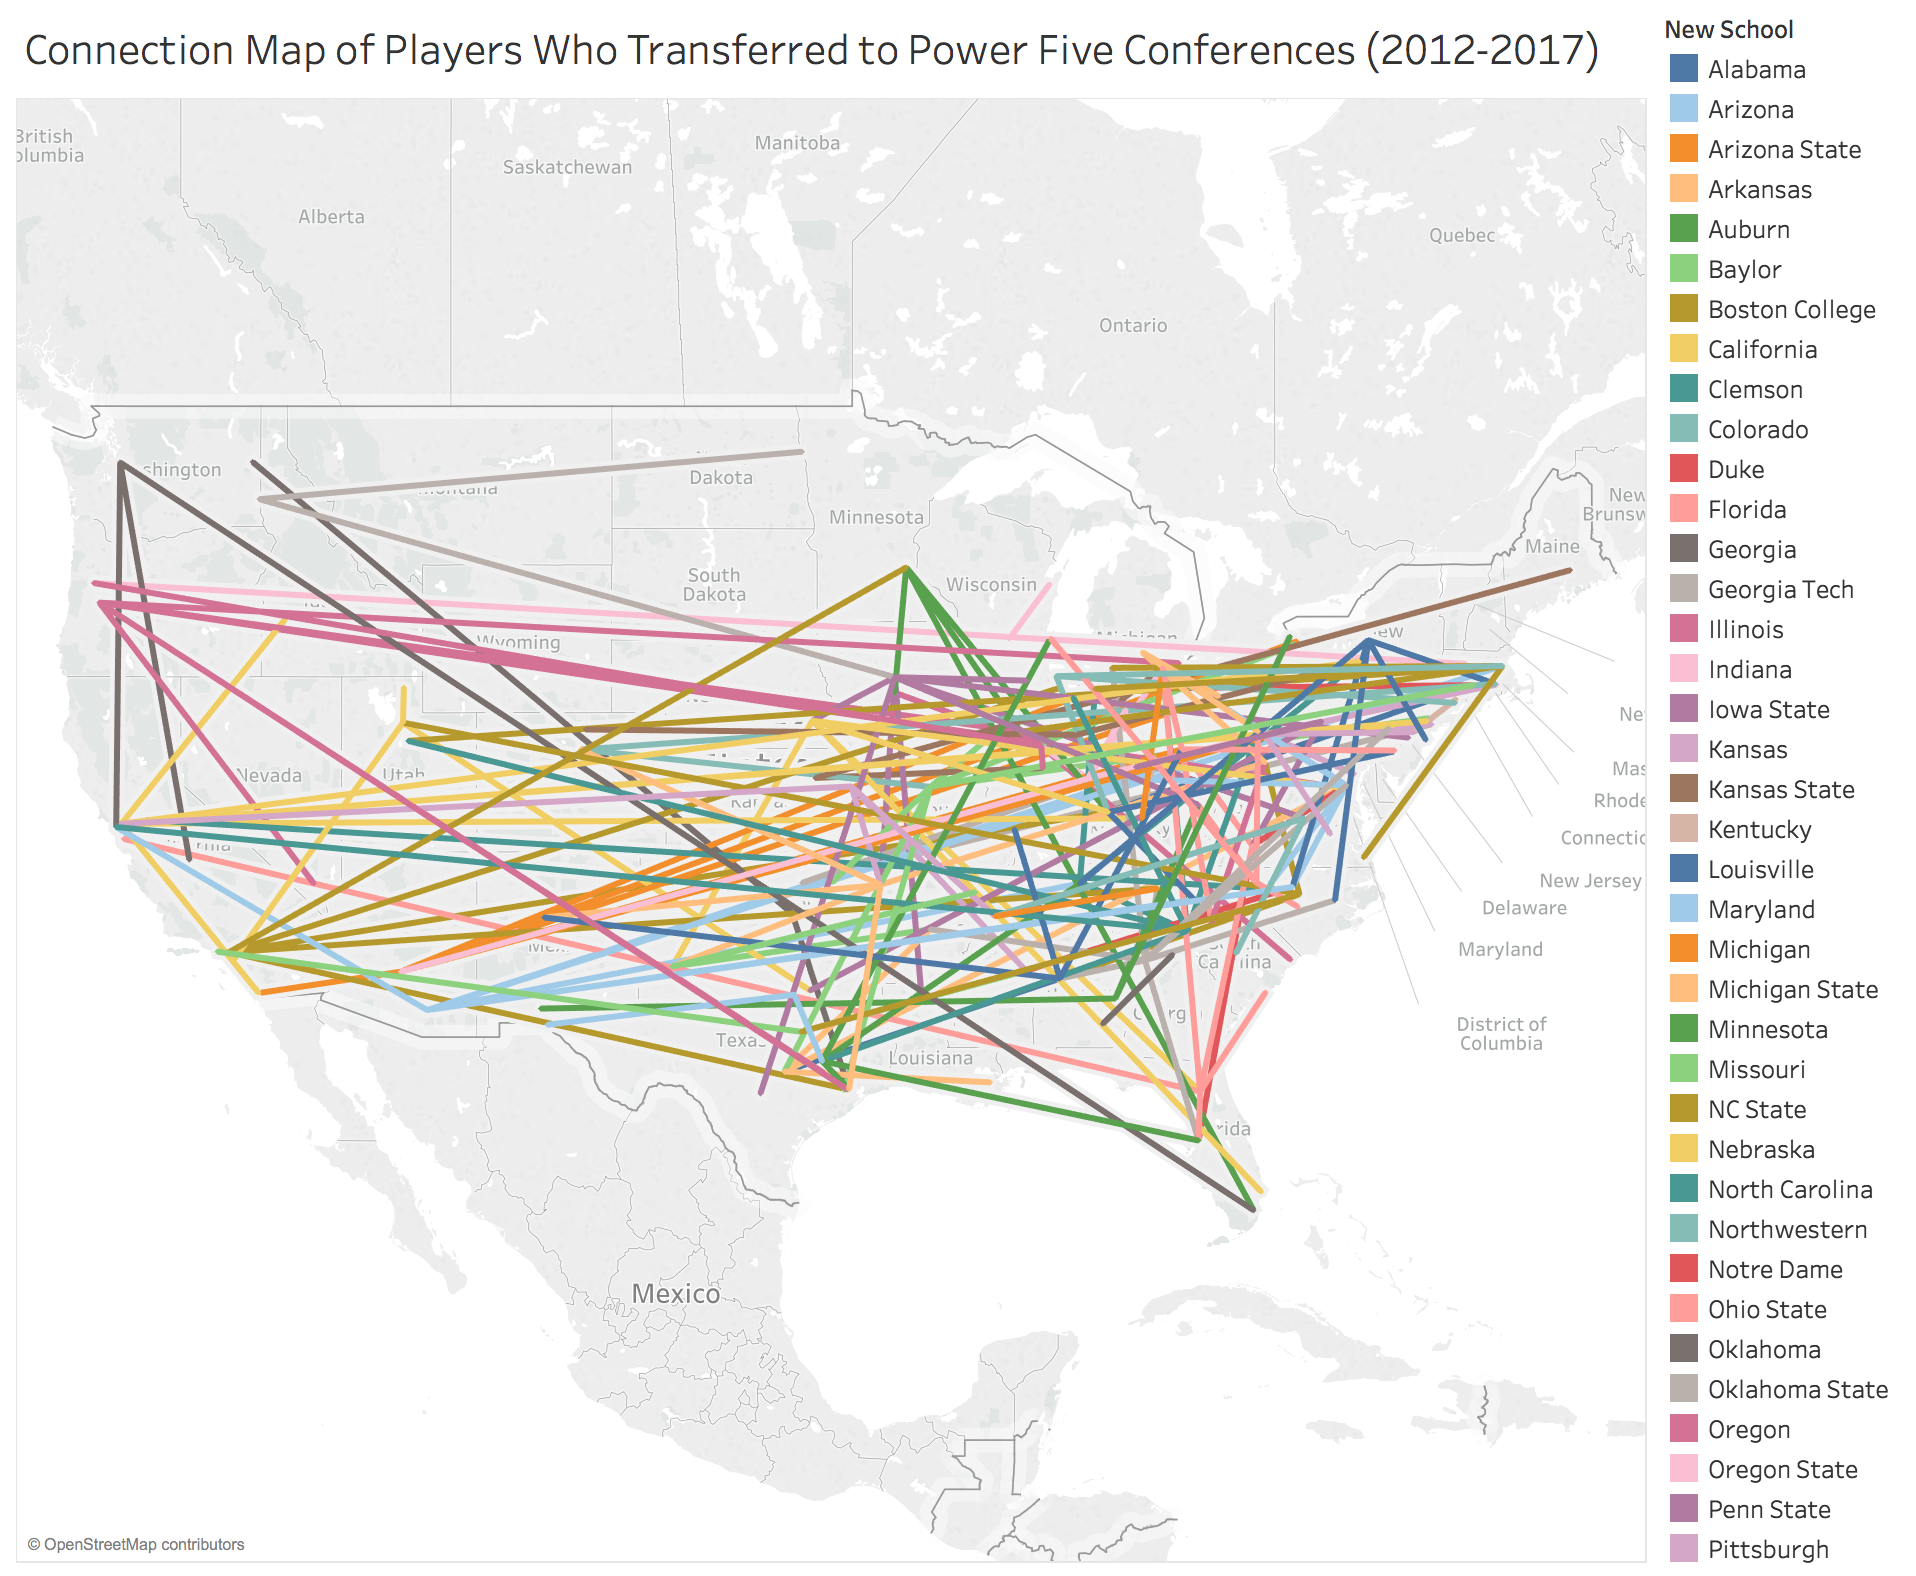

Layout of this report page (visuals, bound fields, positions):
{"tool":"tableau","page":{"name":"Connection Map Dashboard","canvas":[1000,800],"ordinal":0},"visuals":[{"type":"worksheet","title":"Connection Map Sheet","mark":"Line","rows":["lat"],"cols":["lon"],"box":[8,8,824,784]},{"type":"legend","title":"Connection Map Sheet","param":"[federated.1g6h3is166ho0m1c2b5q007evn91].[none:new_school:nk]","box":[832,8,160,784]}]}

Visuals, with their boxes in screenshot pixels (x1, y1, x2, y2), scaled from the page's 1000x800 canvas onto the 1916x1576 screenshot:
"Connection Map Sheet" worksheet (Line marks): [x1=15, y1=16, x2=1594, y2=1560]
"Connection Map Sheet" legend: [x1=1594, y1=16, x2=1901, y2=1560]
